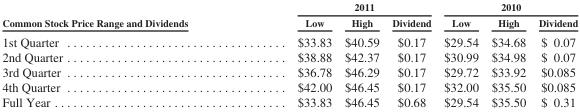table: (1, 1, 577, 109)
table column: (1, 1, 242, 109), (242, 1, 337, 109), (385, 1, 436, 109), (337, 1, 385, 109), (436, 1, 484, 109), (484, 1, 531, 109), (531, 1, 577, 109)
table column header: (1, 1, 577, 31)
table row: (1, 31, 577, 49), (1, 14, 577, 31), (1, 49, 577, 64), (1, 64, 577, 79), (1, 79, 577, 94), (1, 94, 577, 109), (1, 1, 577, 14)
table spanning cell: (1, 1, 242, 31), (242, 1, 436, 14), (436, 1, 577, 14)
